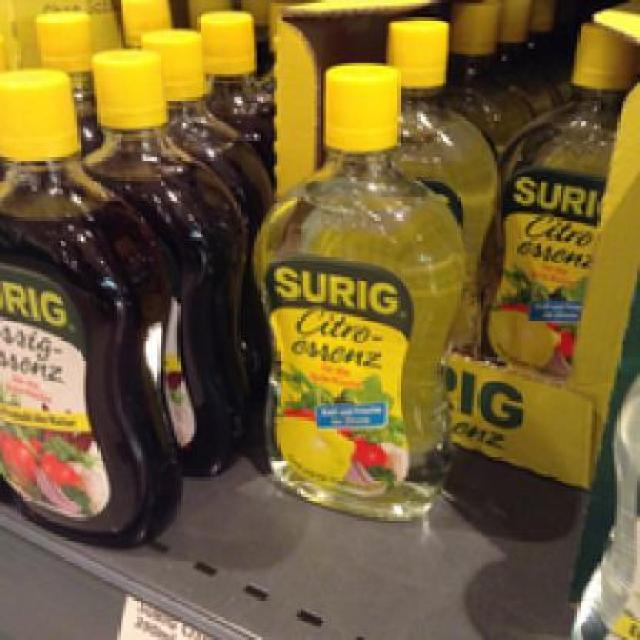Vinegar: (240, 57, 466, 514), (0, 66, 180, 546), (494, 20, 637, 380)
